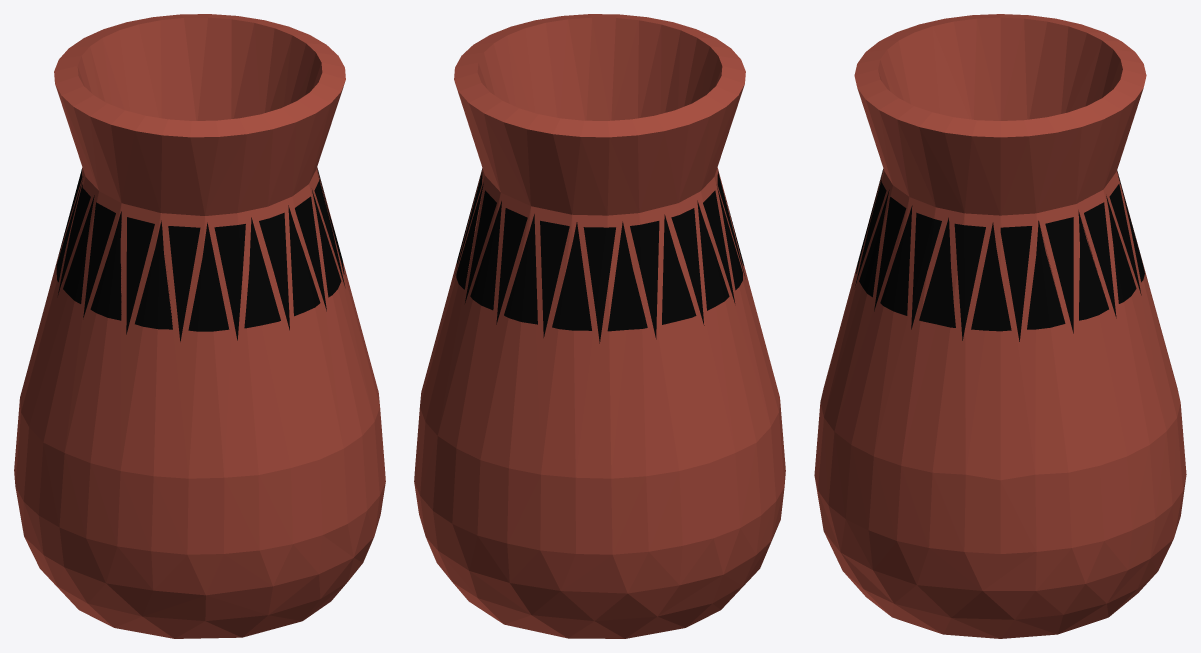
File: Pottery 24_1.fbx
3 renders of one model, left to right at view 1: azimuth 30°, elevation 25°; view 2: azimuth 150°, elevation 25°; view 3: azimuth 270°, elevation 25°, orthographic.
Visible parts, largest first — view 1: Pottery 24_1; view 2: Pottery 24_1; view 3: Pottery 24_1.
Boxes of the visible parts, x1,y1,x2,y2 form: Pottery 24_1: [14, 14, 385, 638]; Pottery 24_1: [414, 14, 785, 638]; Pottery 24_1: [814, 14, 1186, 638].
Size of the model in its own units: 30.34 by 45.97 by 30.35.
